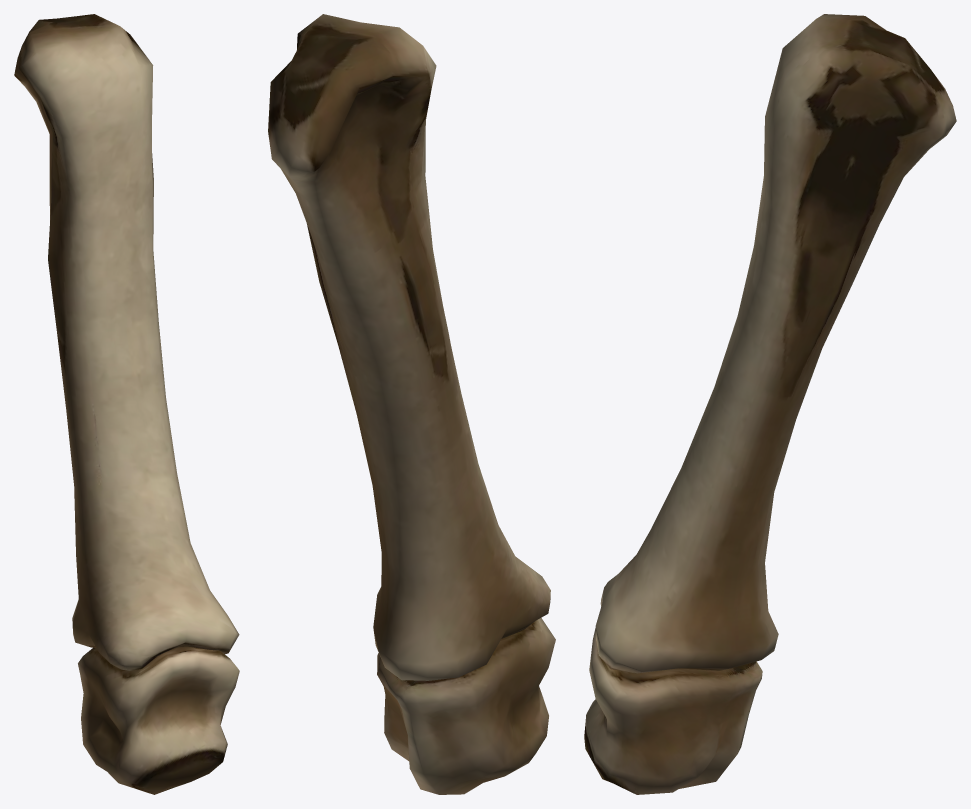
File: Metacarpal_III.glb
3 renders of one model, left to right at view 1: azimuth 30°, elevation 25°; view 2: azimuth 150°, elevation 25°; view 3: azimuth 270°, elevation 25°, orthographic. The views are drawn at different scales.
Parts seen in each view (by area): view 1: Metacarpal_III_Right1:Group54261; view 2: Metacarpal_III_Right1:Group54261; view 3: Metacarpal_III_Right1:Group54261.
Part boxes in pixels (x1,y1,x2,y2): Metacarpal_III_Right1:Group54261: (14,14,239,794); Metacarpal_III_Right1:Group54261: (268,14,555,794); Metacarpal_III_Right1:Group54261: (584,14,956,794).
Size of the model in its own units: 10.5 by 54.62 by 24.13.
Materials: 1 (1 with a texture image).
